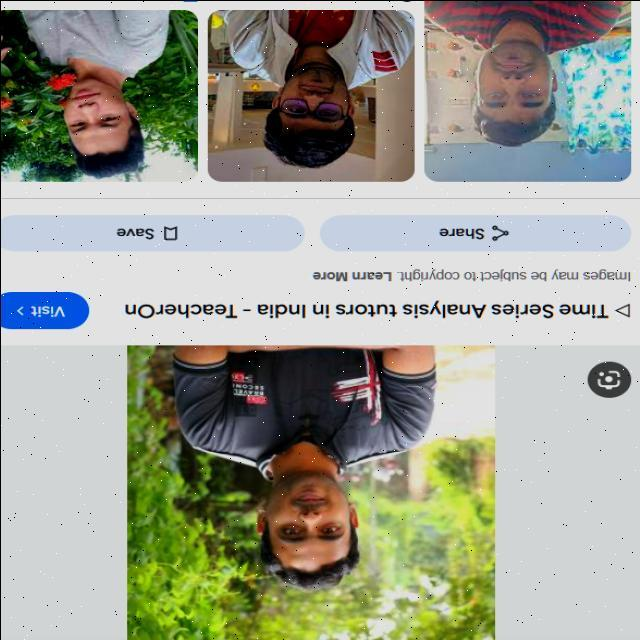face_no_mask: (253, 472, 362, 574), (474, 39, 559, 133), (271, 63, 359, 131), (63, 80, 143, 151)
